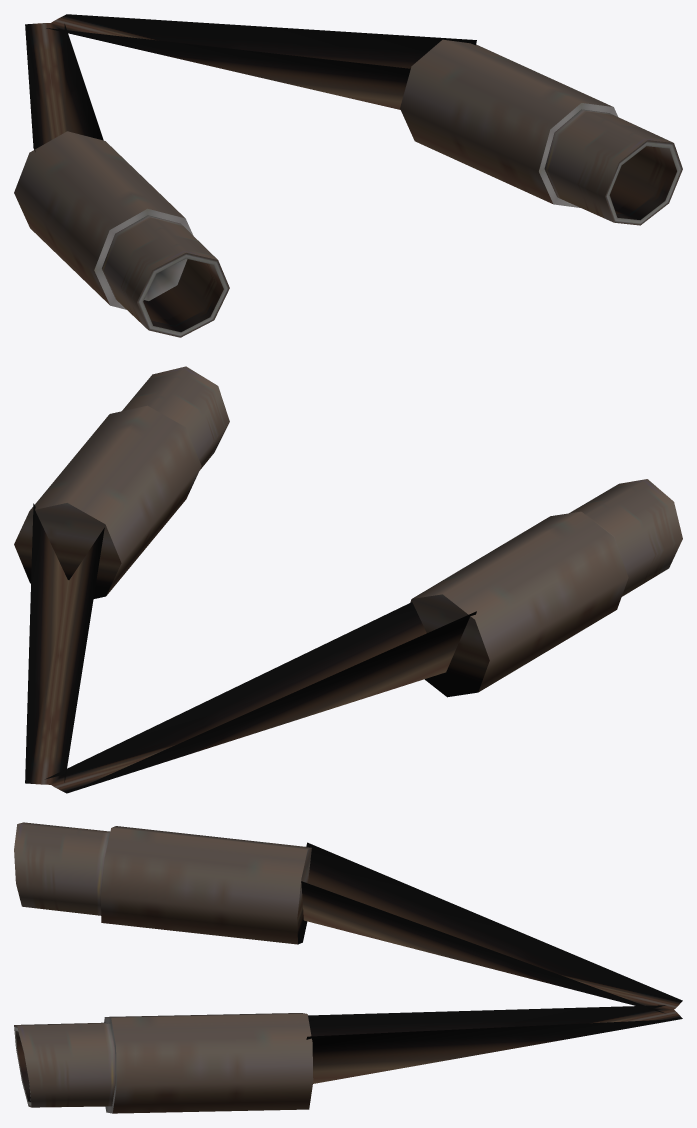
File: exh_a_s.glb
The picture shows the model from 3 angles, top to bottom: view 1: azimuth 30°, elevation 25°; view 2: azimuth 150°, elevation 25°; view 3: azimuth 270°, elevation 25°; orthographic projection. The views are drawn at different scales.
Visible parts, largest first — view 1: exh_a_s; view 2: exh_a_s; view 3: exh_a_s.
Boxes of the visible parts, left/top/right/bottom form: exh_a_s: left=14, top=14, right=682, bottom=337; exh_a_s: left=14, top=366, right=682, bottom=793; exh_a_s: left=14, top=822, right=682, bottom=1113.
Bounding box in the file's own units: 1.2 × 0.2404 × 1.42.
1 material, 1 textured.
